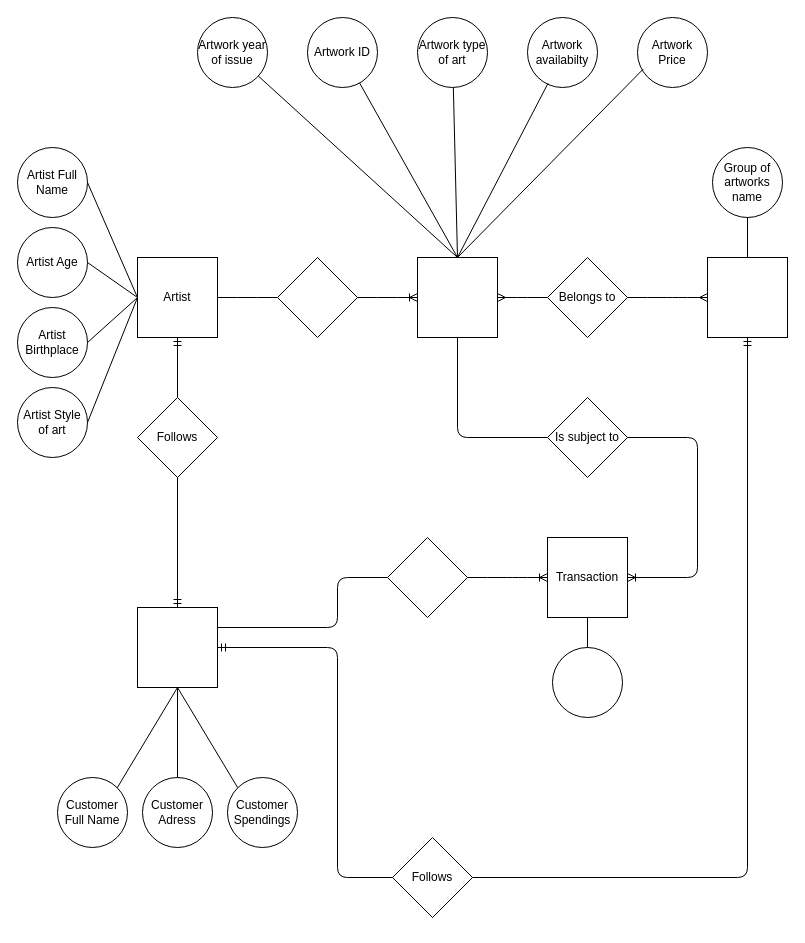
Image size: 805x943. Some labels were removed from this diagram. Each missing label, with the centre of its shape:
"Artwork" belongs at pixel 457 297.
"Conducts" belongs at pixel 427 577.
"Creates" belongs at pixel 317 297.
"Customer" belongs at pixel 177 647.
"Group of artworks" belongs at pixel 747 297.
"Transaction ID" belongs at pixel 587 682.
